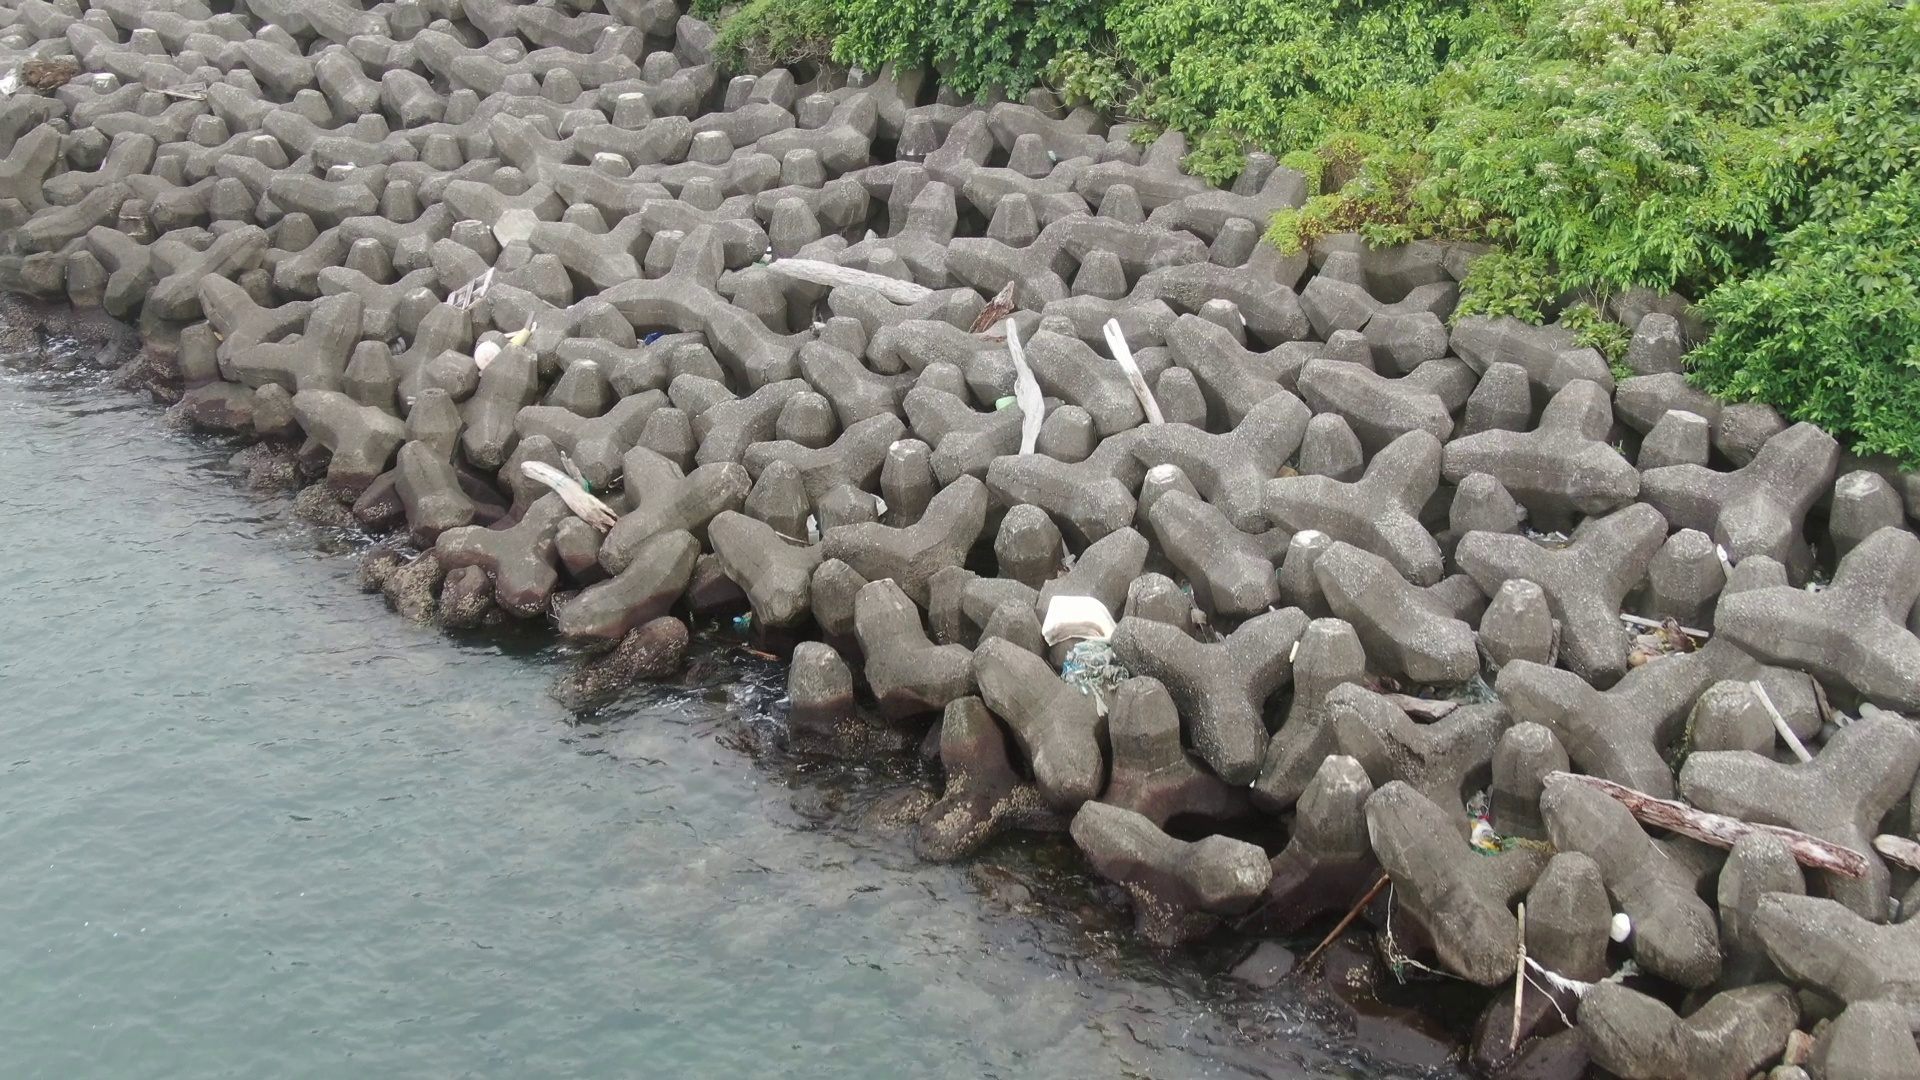garbage: (1040, 585, 1135, 715), (469, 316, 546, 377), (1464, 781, 1516, 862), (550, 442, 605, 506), (434, 265, 496, 309), (1596, 901, 1644, 951), (632, 322, 665, 349)
